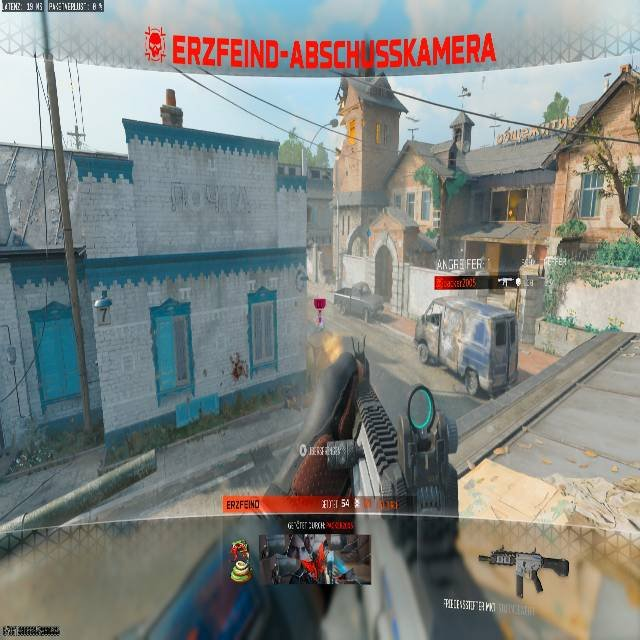player: (445, 109, 474, 171)
